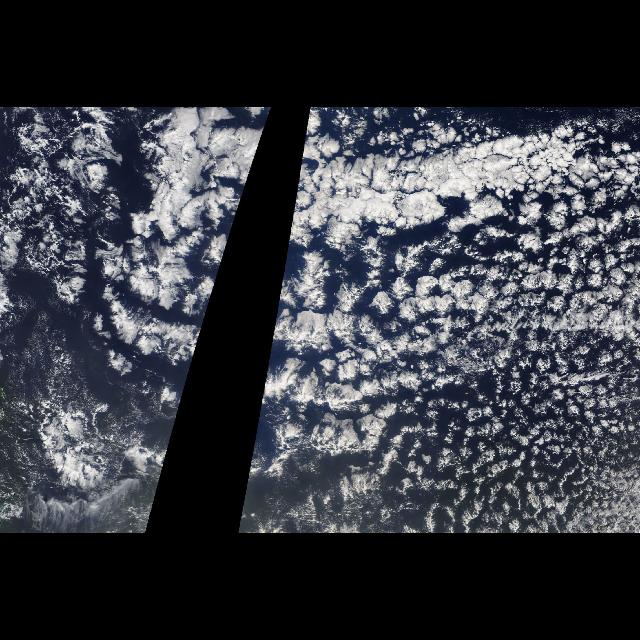Flower: (249, 114, 639, 532), (57, 114, 271, 462)
Gravel: (398, 393, 622, 529)
